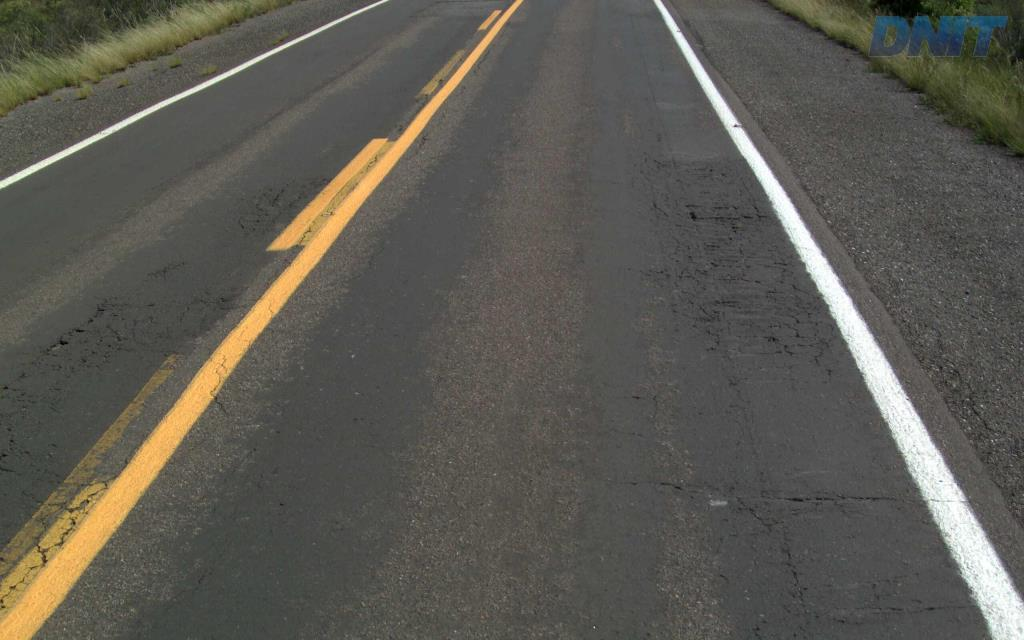crack: (728, 496, 865, 624), (684, 198, 771, 255), (759, 487, 848, 512), (692, 302, 725, 346)
